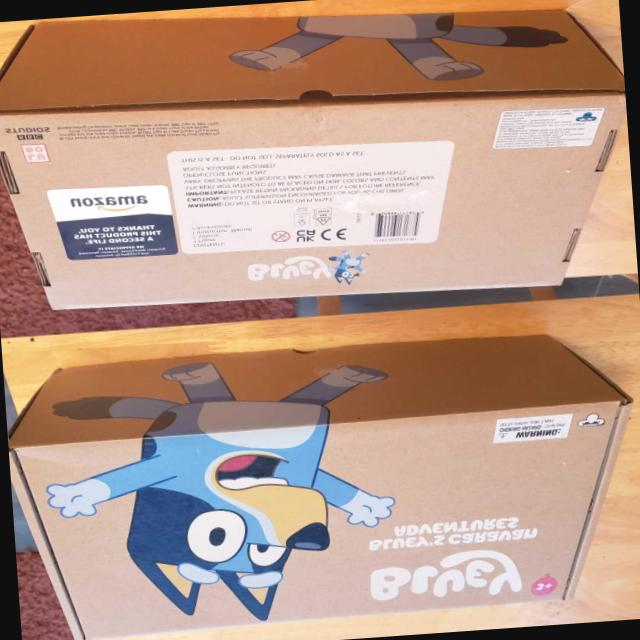Pathole: (2, 313, 640, 640), (0, 0, 638, 326)
